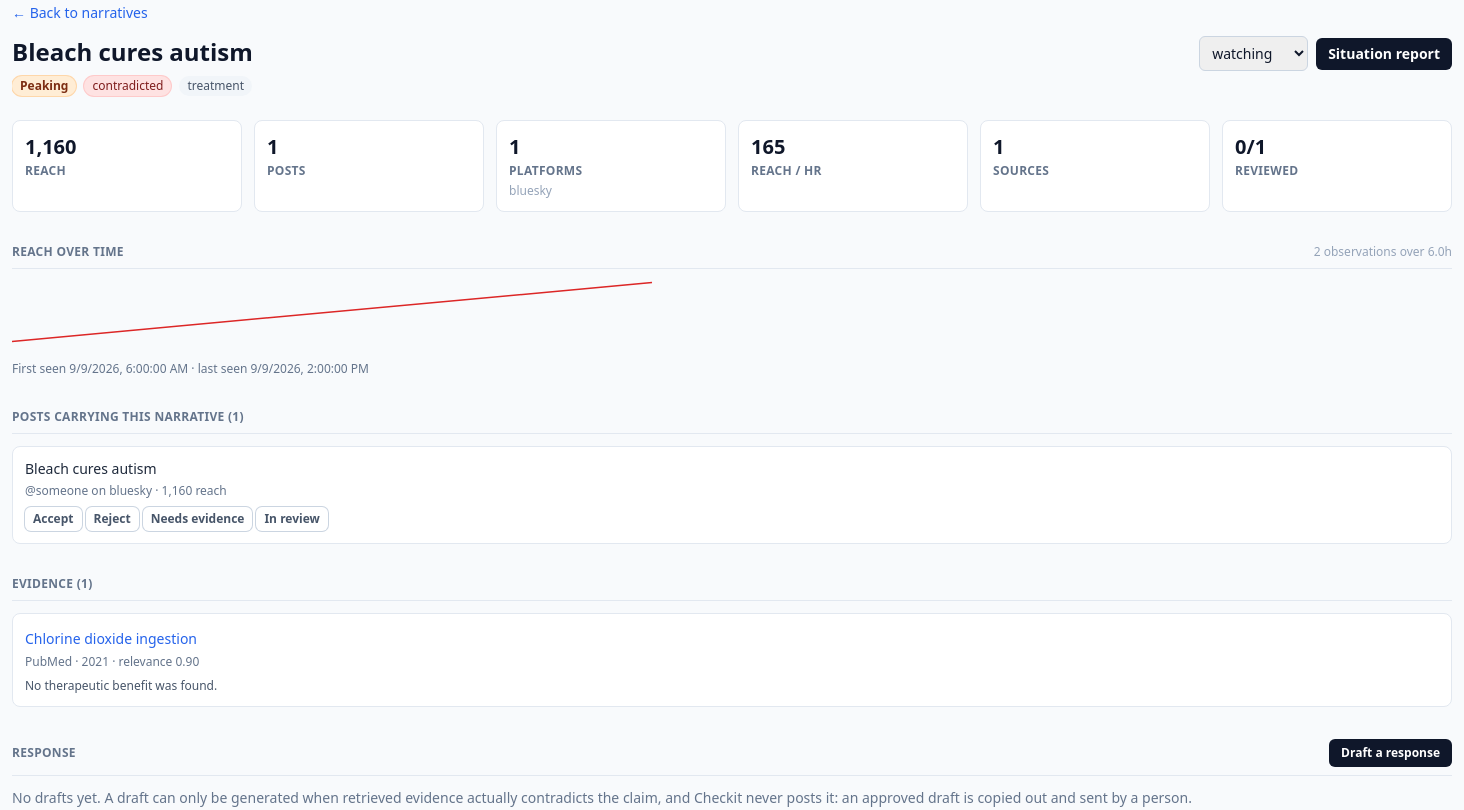
Scenario: NarrativePage › explains a refusal instead of showing an error when evidence is thin
Click the button "Draft a response" at (1391, 753), box 1329,739 -> 1452,767
(page scrolled)
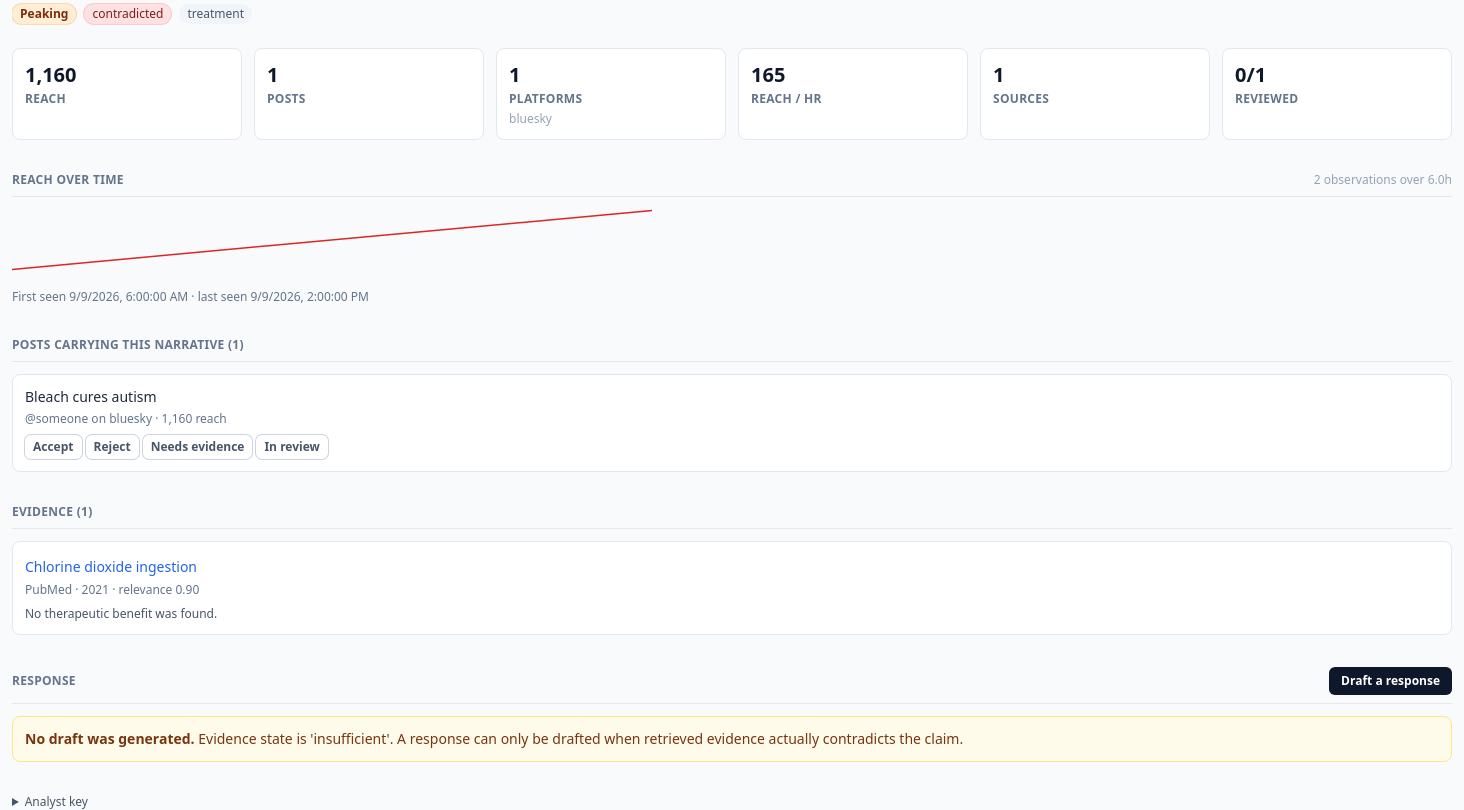
Result: the text "No draft was generated." is shown at 25,729 -> 195,748
Result: the text "can only be drafted when retrieved evidence" is shown at 198,729 -> 963,748
